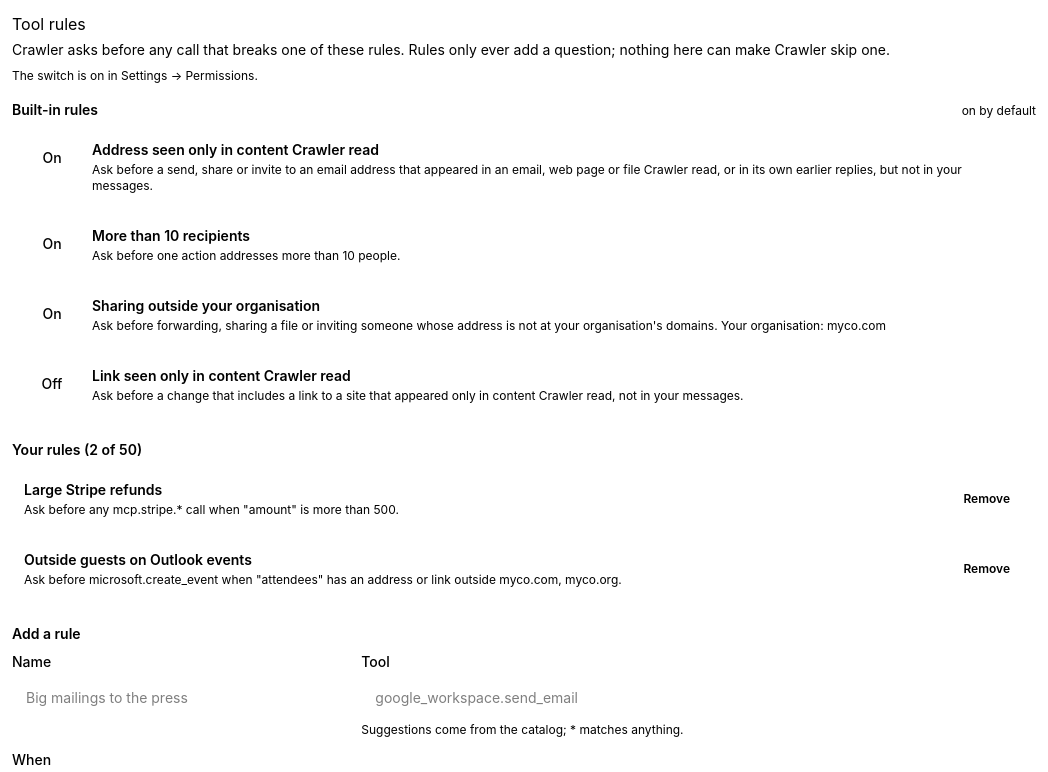
Test: ToolRulesTab › a built-in rule the server refuses to turn on stays off with the reason on its own row
Expected: the heading "Built-in rules" is shown, x1=12 y1=100 x2=98 y2=120
Step 1. Click the switch named "Link seen only in content Crawler read" → x=52, y=384, box x1=24 y1=366 x2=80 y2=402
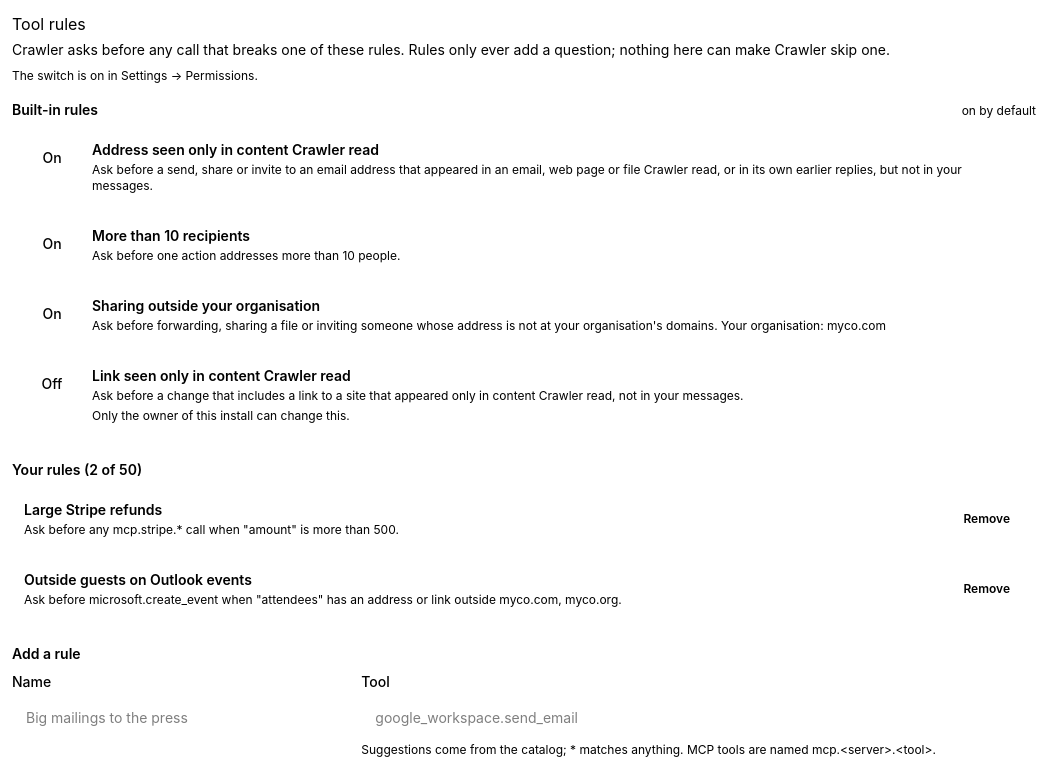
Now the message reads "Only the owner of this install can change this.", box x1=92 y1=408 x2=350 y2=423
Now the number of messages is 1, box x1=92 y1=408 x2=350 y2=423
